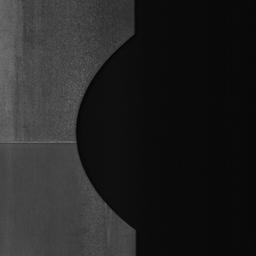Crescent gap: (76, 35, 136, 231)
